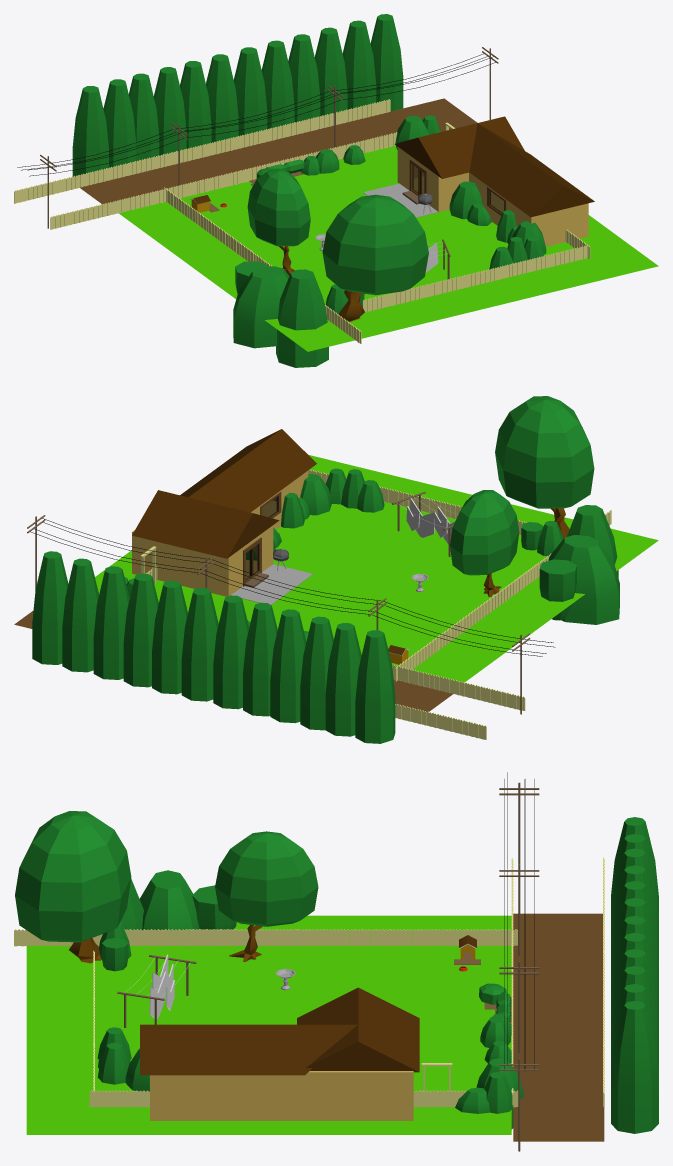
The model's file is Set_01.fbx.
3 renders of one model, top to bottom at view 1: azimuth 30°, elevation 25°; view 2: azimuth 150°, elevation 25°; view 3: azimuth 270°, elevation 25°, orthographic. The views are drawn at different scales.
Visible parts, largest first — view 1: pPlane1, pSphere5, pPlane2, pCube50, pCube58, pSphere4, pCylinder91, pCylinder92, pCube49, pCylinder14, pCylinder9, pCylinder10 (+27 smaller); view 2: pPlane1, pSphere5, pCube49, pCube50, pCube58, pSphere4, pCylinder92, pCylinder14, pCylinder6, pCylinder10, pCylinder9, pCylinder11 (+25 smaller); view 3: pPlane1, pPlane2, pCube58, pSphere5, pCube50, pSphere4, pCube49, pCylinder9, pCylinder92, pCube41, pCube40, pCube74 (+24 smaller).
Part boxes in pixels (box(x1,y1,x2,y2)): pPlane1: box(119, 145, 658, 351); pSphere5: box(322, 194, 428, 295); pPlane2: box(80, 98, 477, 204); pCube50: box(469, 123, 594, 217); pCube58: box(397, 147, 588, 246); pSphere4: box(247, 168, 310, 246); pCylinder91: box(276, 269, 328, 367); pCylinder92: box(233, 266, 289, 348); pCube49: box(395, 116, 524, 178); pCylinder14: box(72, 86, 108, 176); pCylinder9: box(370, 14, 403, 111); pCylinder10: box(342, 20, 376, 109); pPlane1: box(95, 455, 658, 682); pSphere5: box(495, 396, 594, 508); pCube49: box(132, 490, 279, 558); pCube50: box(180, 429, 316, 512); pCube58: box(132, 470, 308, 596); pSphere4: box(450, 490, 519, 575); pCylinder92: box(548, 535, 619, 624); pCylinder14: box(355, 630, 395, 743); pCylinder6: box(181, 587, 218, 701); pCylinder10: box(62, 558, 98, 672); pCylinder9: box(32, 551, 68, 664); pCylinder11: box(270, 609, 306, 723); pPlane1: box(26, 915, 511, 1134); pPlane2: box(513, 913, 604, 1141); pCube58: box(150, 1071, 413, 1120); pSphere5: box(15, 811, 131, 942); pCube50: box(140, 1024, 357, 1075); pSphere4: box(215, 831, 318, 926); pCube49: box(297, 987, 419, 1072); pCylinder9: box(611, 1001, 658, 1133); pCylinder92: box(139, 870, 199, 930); pCube41: box(293, 929, 405, 945); pCube40: box(405, 929, 517, 945); pCube74: box(187, 929, 299, 945).
Size of the model in its own units: 7438 by 2389 by 6939.
